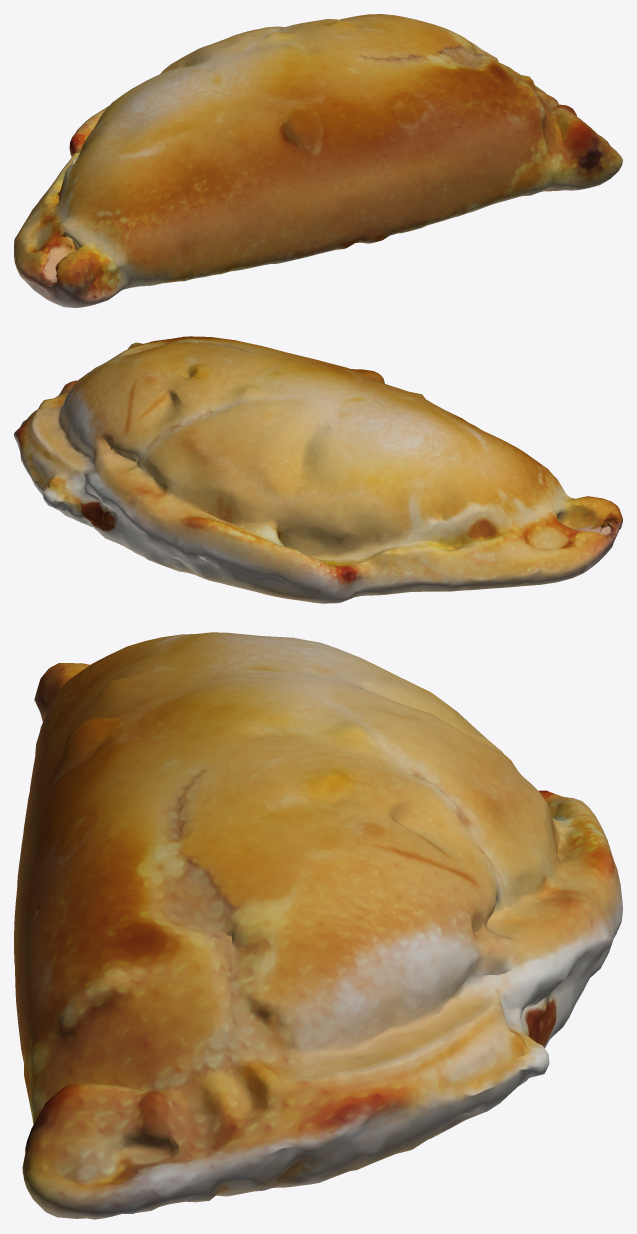
Rendered from empanada.glb.
3 renders of one model, top to bottom at view 1: azimuth 30°, elevation 25°; view 2: azimuth 150°, elevation 25°; view 3: azimuth 270°, elevation 25°, orthographic. The views are drawn at different scales.
Parts seen in each view (by area): view 1: world_1; view 2: world_1; view 3: world_1.
Boxes of the visible parts, x1,y1,x2,y2 form: world_1: (14, 14, 622, 307); world_1: (14, 336, 622, 603); world_1: (14, 632, 622, 1219).
Bounding box in the file's own units: 1 × 0.2658 × 0.5087.
1 material, 1 textured.
